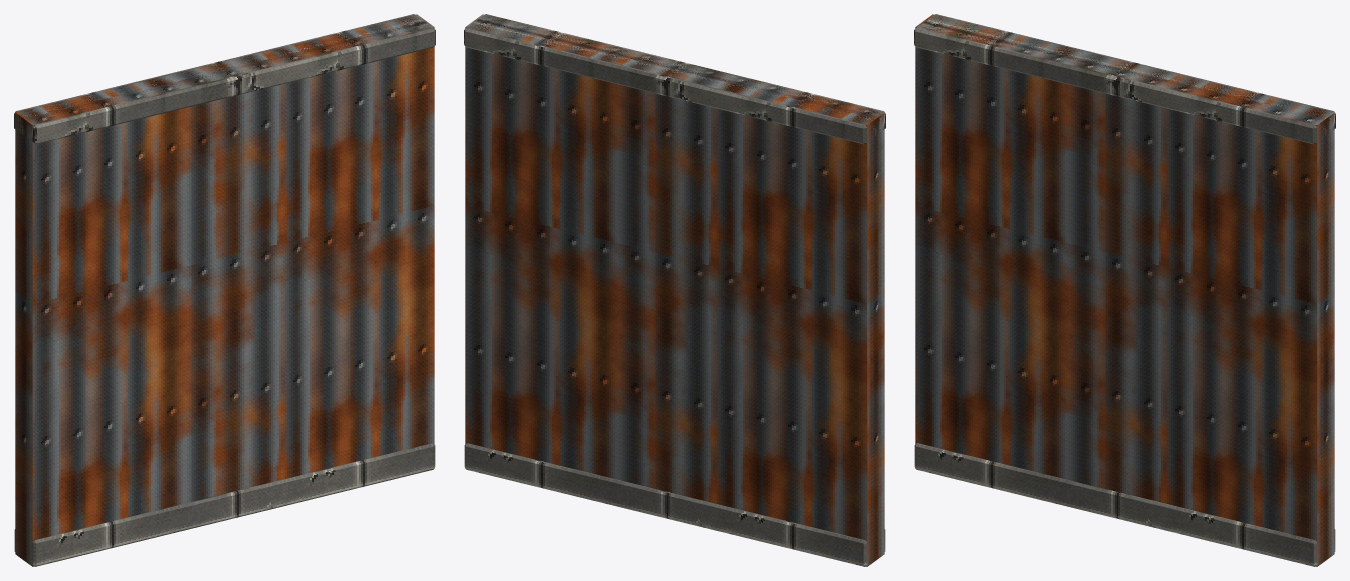
File: wall_metal.glb
3 views of the same model, side by side, from view 1: azimuth 30°, elevation 25°; view 2: azimuth 150°, elevation 25°; view 3: azimuth 330°, elevation 25° (orthographic).
Visible parts, largest first — view 1: wall_metal_mesh; view 2: wall_metal_mesh; view 3: wall_metal_mesh.
Boxes of the visible parts, x1,y1,x2,y2 form: wall_metal_mesh: (14,14,435,566); wall_metal_mesh: (464,14,885,566); wall_metal_mesh: (914,14,1335,566).
Size of what is drawn, in the model's own units: 4 by 4.2 by 0.38.
Materials: 2 (2 with a texture image).
